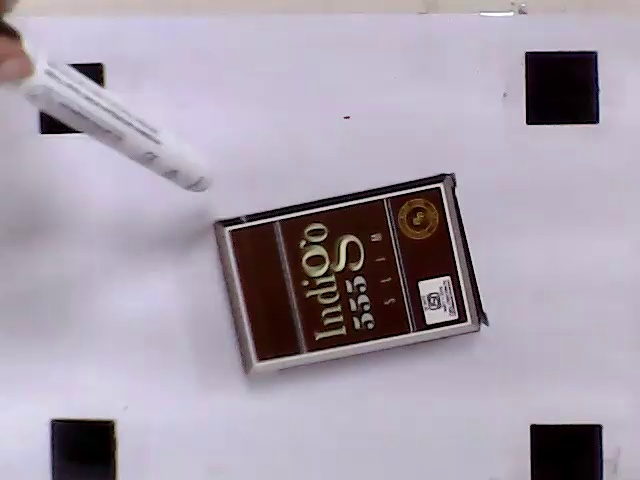BEX: (223, 185, 469, 362)
